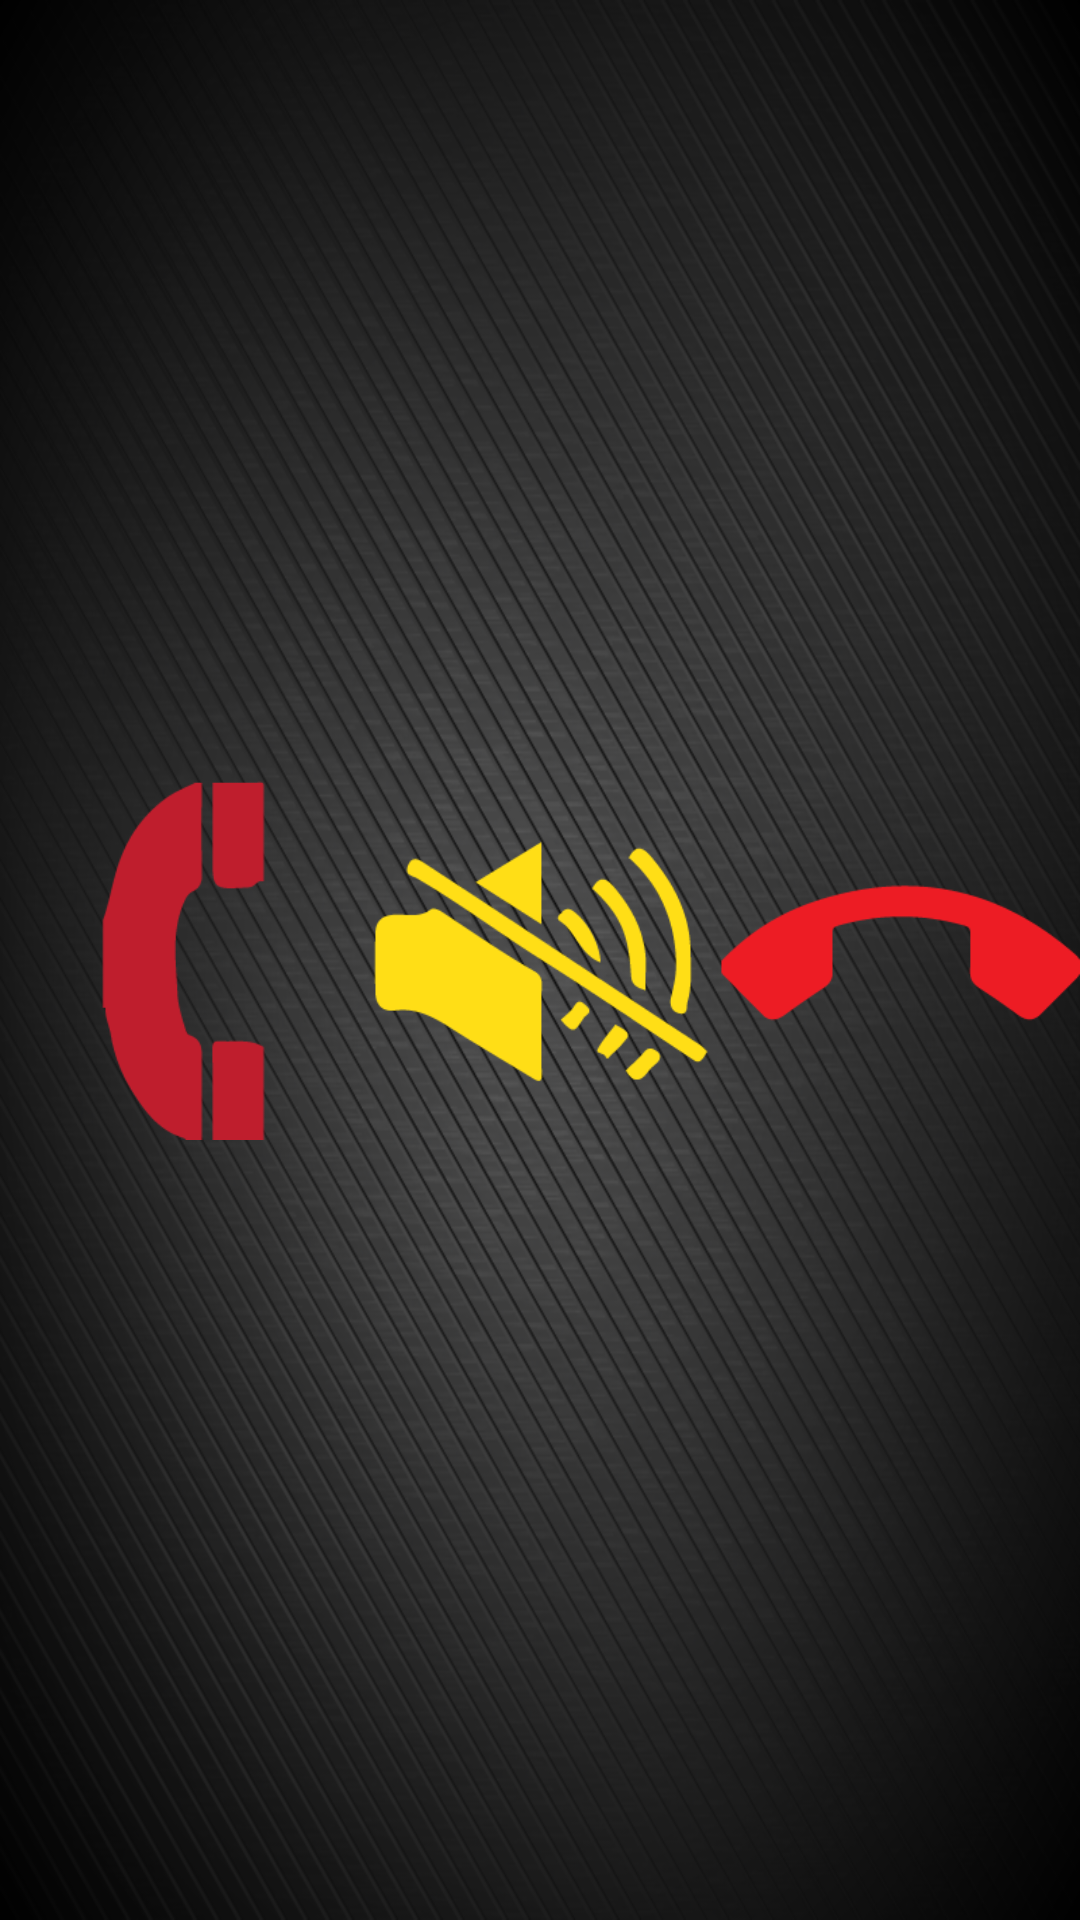

Screen size 1080w x 1920h. Icon name, then its center in pixels as [x,y]:
endcall: [900,960]
mute: [540,960]
